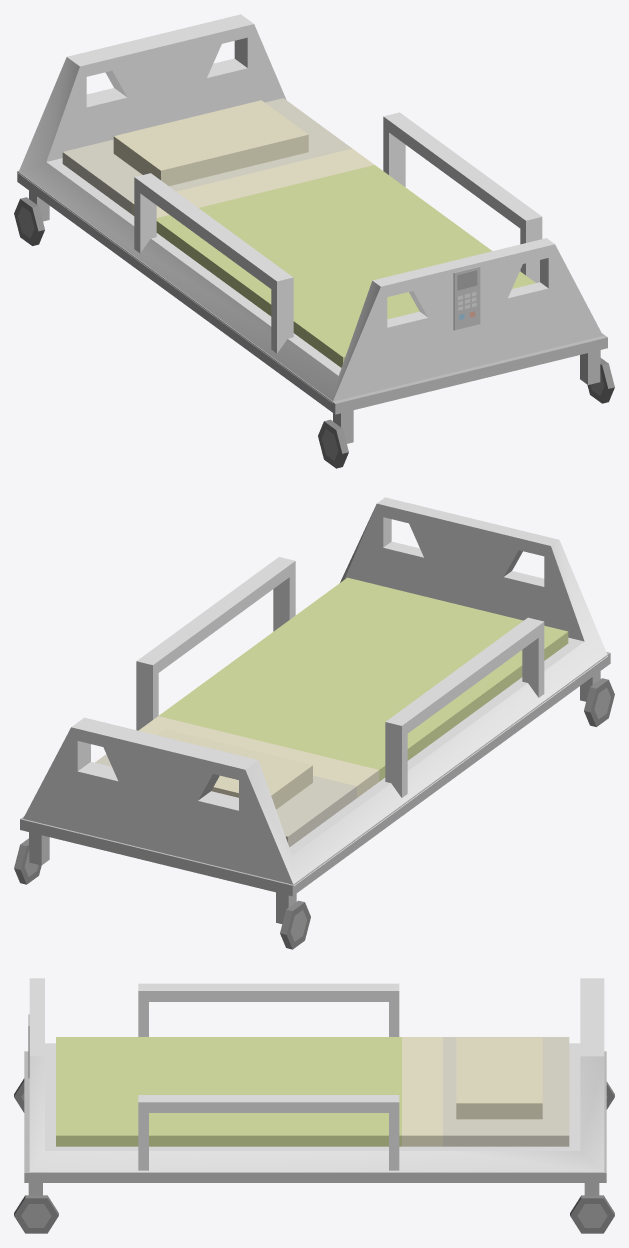
Rendered from bunk_1.fbx.
The picture shows the model from 3 angles, top to bottom: view 1: azimuth 30°, elevation 25°; view 2: azimuth 150°, elevation 25°; view 3: azimuth 270°, elevation 25°; orthographic projection. The views are drawn at different scales.
Visible parts, largest first — view 1: Cube_75_1; view 2: Cube_75_1; view 3: Cube_75_1.
Boxes of the visible parts, x1=… form: Cube_75_1: x1=14, y1=14, x2=614, y2=468; Cube_75_1: x1=14, y1=497, x2=614, y2=949; Cube_75_1: x1=14, y1=978, x2=614, y2=1233.
Bounding box in the file's own units: 53.22 × 31.27 × 110.
